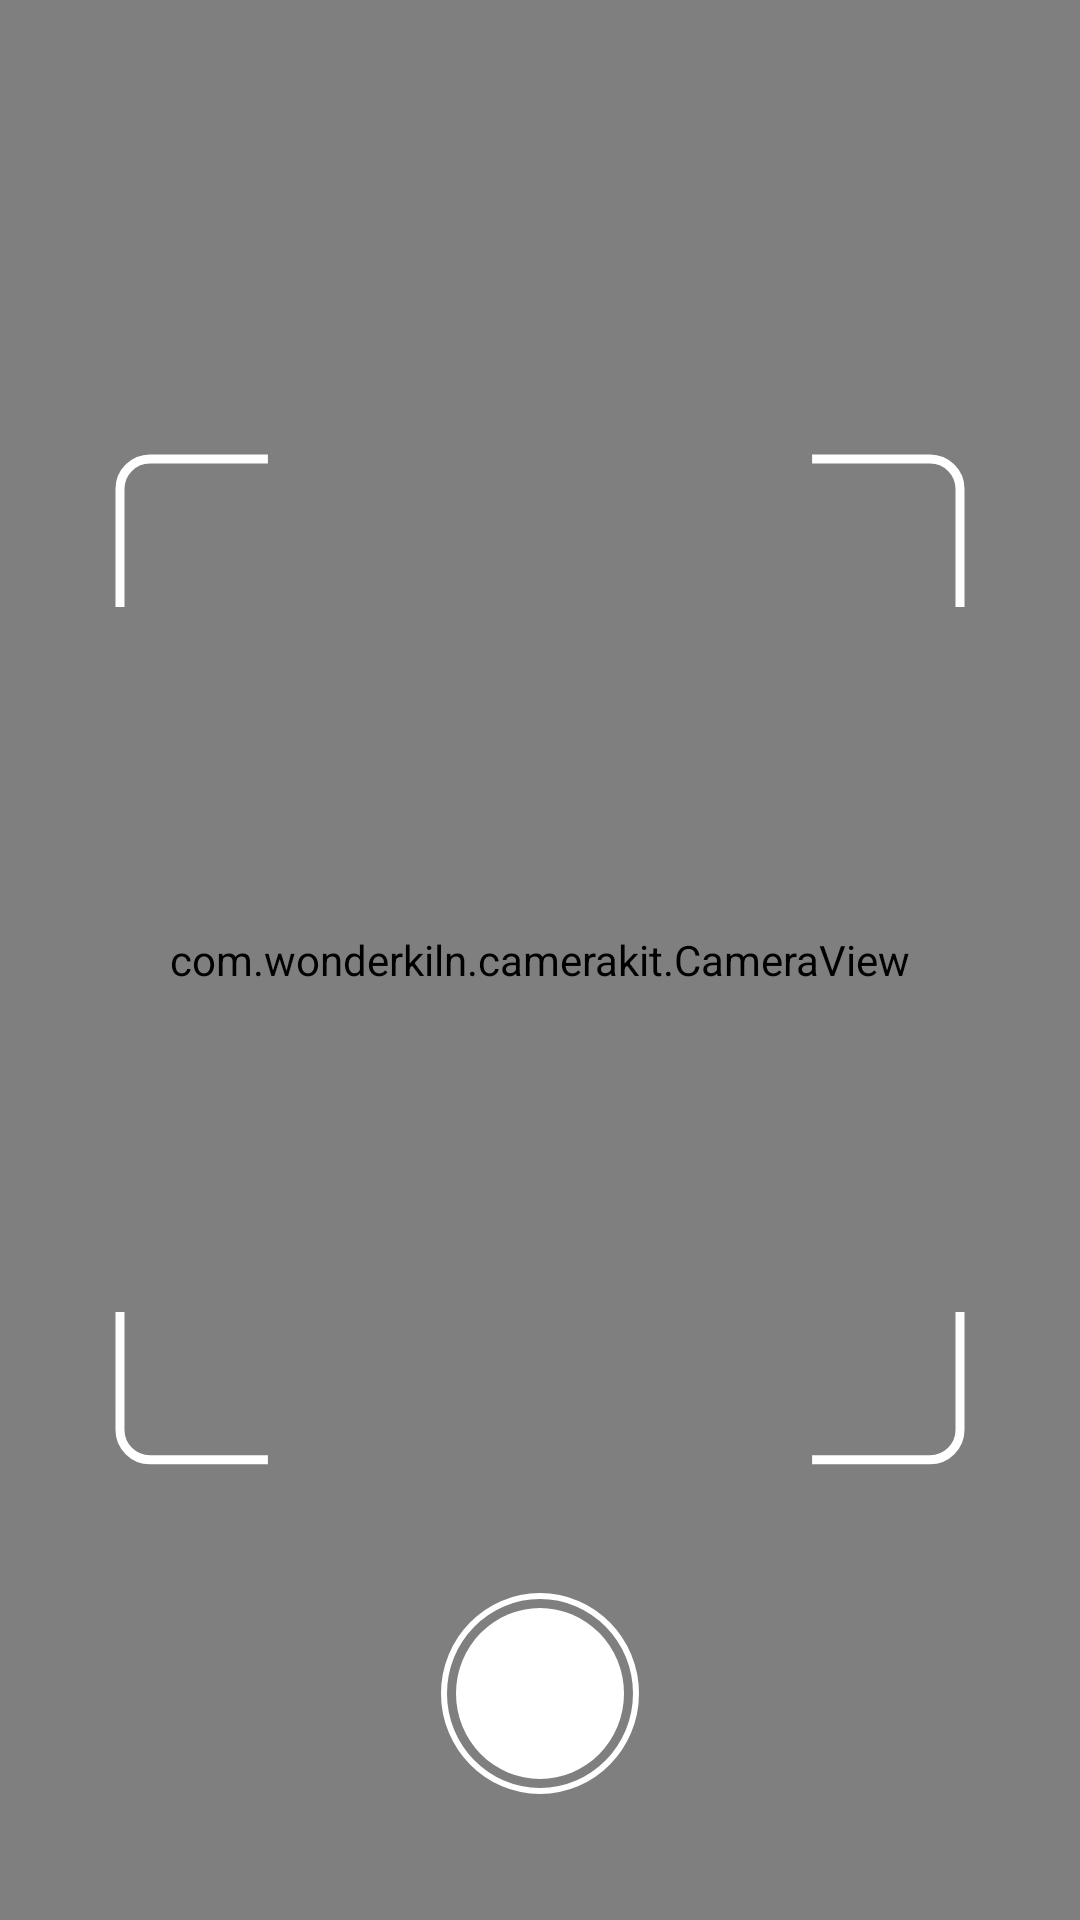

Named icons in this screenshot (1080w x 1920h) and their centers, (x=x, y=y):
shutter: (x=540, y=1693)
